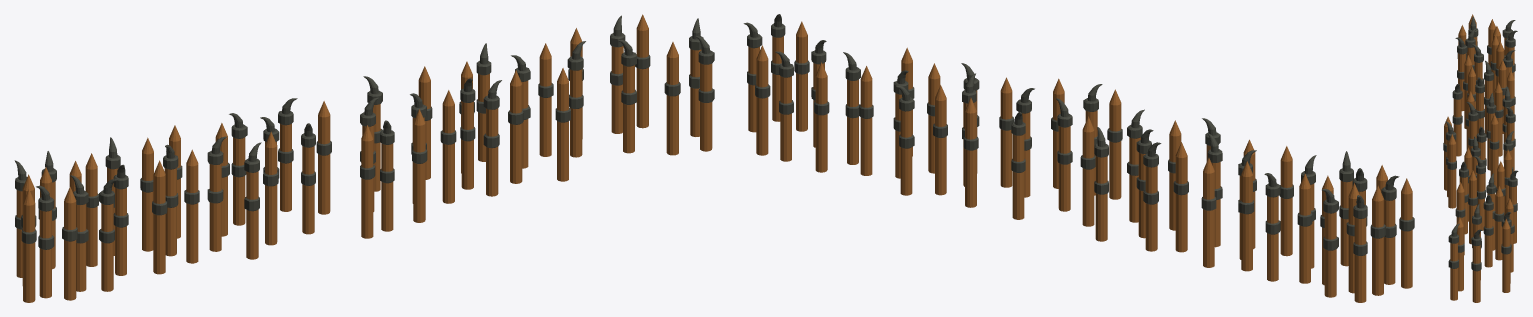
The model's file is spikes sem plataforma(2).fbx.
The picture shows the model from 3 angles, left to right: view 1: azimuth 30°, elevation 25°; view 2: azimuth 150°, elevation 25°; view 3: azimuth 270°, elevation 25°; orthographic projection. The views are drawn at different scales.
Visible parts, largest first — view 1: Cube.007; view 2: Cube.007; view 3: Cube.007.
Boxes of the visible parts, x1,y1,x2,y2 form: Cube.007: (14, 14, 714, 302); Cube.007: (743, 14, 1414, 302); Cube.007: (1443, 14, 1518, 302).
Bounding box in the file's own units: 494 × 77.17 × 72.31.
